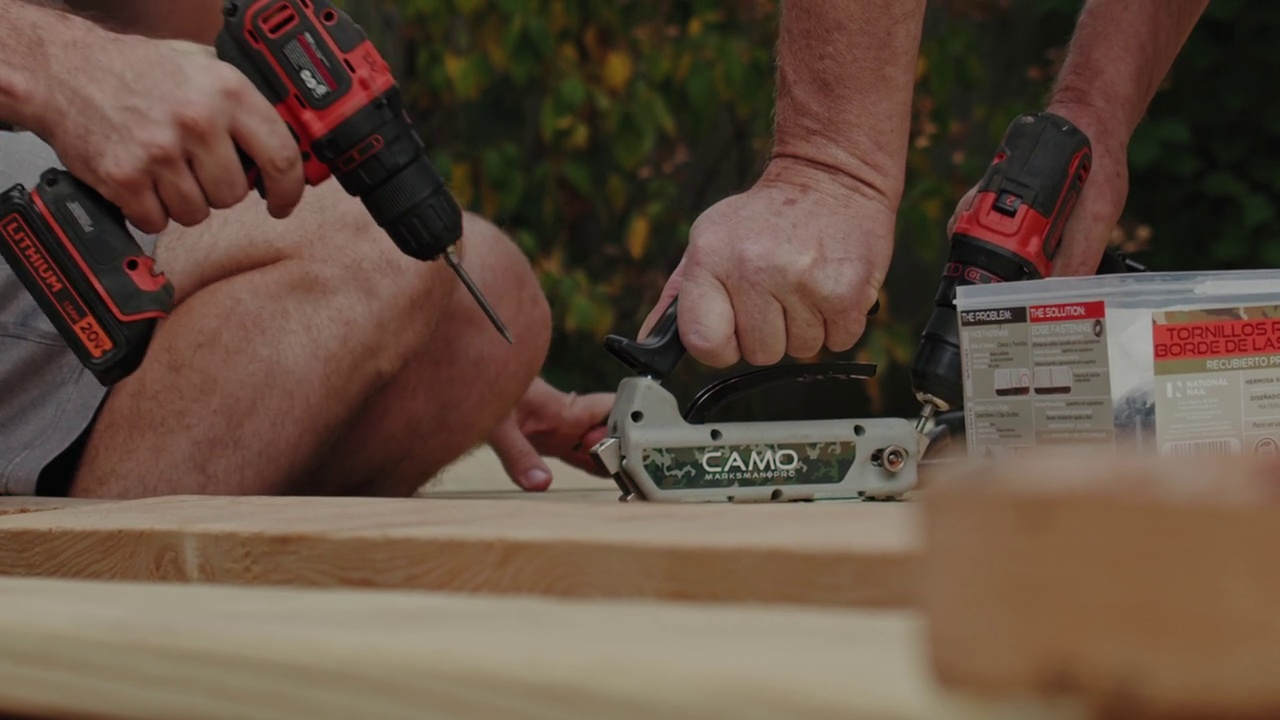driller: (1, 1, 519, 391), (910, 107, 1101, 435)
